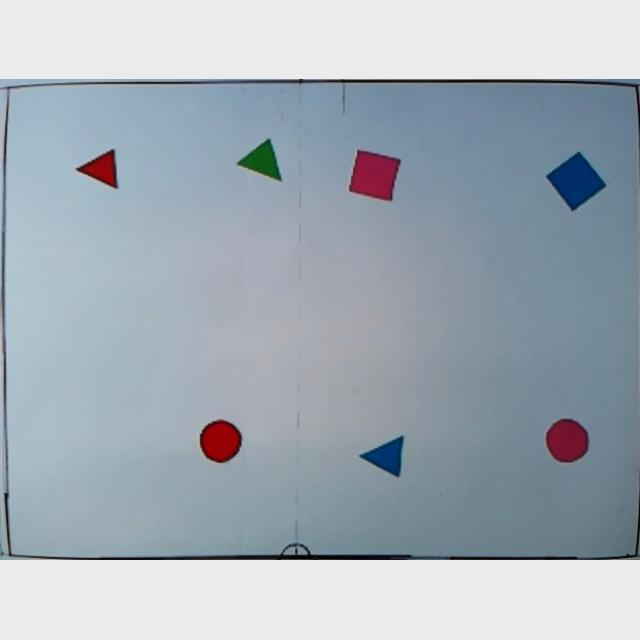blueSquare: (546, 153, 606, 214)
blueTriangle: (360, 438, 404, 478)
greenTriangle: (236, 140, 284, 183)
pinkCircle: (545, 420, 589, 464)
pinkSquare: (348, 150, 400, 202)
redCircle: (199, 420, 243, 466)
redTriangle: (74, 148, 118, 192)
